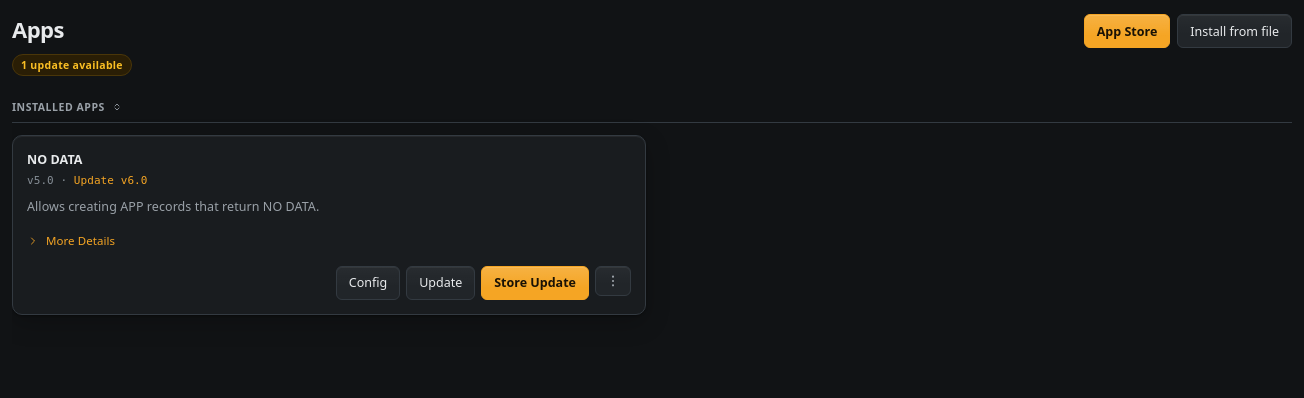
Apps: Store Update from the card › it updates with the name and url of the app and alerts with the literal text
Expected: the list item "NO DATA" is shown, [12,135,646,315]
Click the button "Store Update".
click(535, 283)  # box [481,266,589,300]
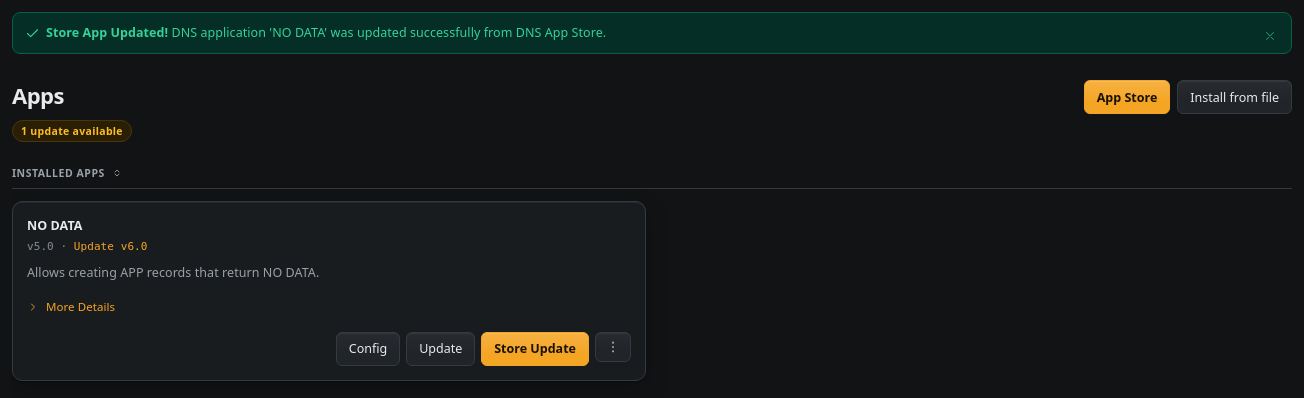
Expected: the heading "NO DATA" is shown, [27,217,83,234]
Expected: the text "DNS application 'NO DATA' was updated successfully from DNS App Store." is shown, [171,24,606,41]
